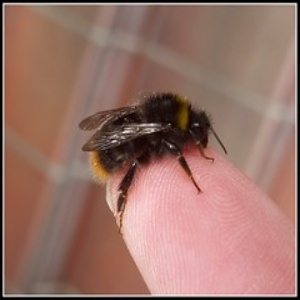bee: (76, 90, 230, 235)
